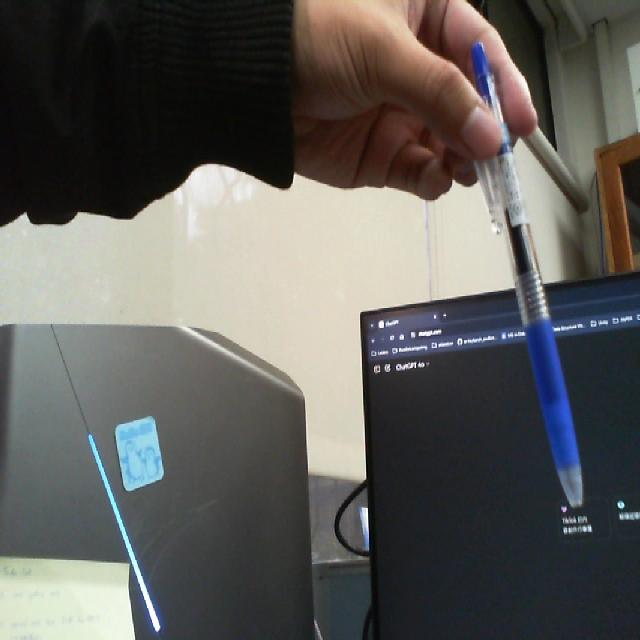Pen: (454, 26, 598, 536)
